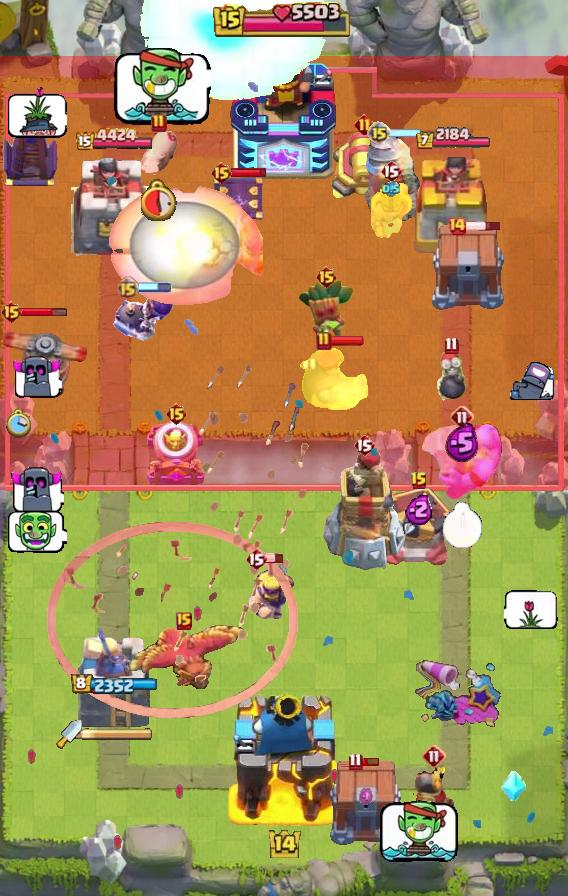archer-queen: (418, 422, 506, 502)
arrows: (247, 563, 296, 620)
bar: (75, 623, 153, 731)
bomb: (429, 225, 507, 311), (327, 761, 405, 847)
clock: (213, 2, 355, 40)
dark-prince: (0, 313, 88, 397)
electro-spirit: (445, 423, 479, 463), (406, 493, 435, 525), (382, 181, 400, 197), (359, 787, 373, 805)
elixir: (441, 503, 482, 550), (141, 179, 178, 221), (5, 408, 31, 439)
emote: (16, 306, 69, 317), (466, 220, 503, 232), (329, 335, 365, 347), (232, 166, 269, 177), (136, 283, 172, 294), (389, 129, 424, 140), (360, 756, 380, 767), (264, 553, 283, 564)
firecracker: (413, 767, 456, 833)
giant: (138, 129, 180, 175)
goblin-ball: (113, 290, 175, 342)
goblin-barrel: (297, 278, 355, 344)
goblin-cage: (144, 419, 208, 489)
goblin-giant: (369, 183, 413, 241)
ice-golem: (434, 349, 468, 405)
ice-spirit-evolution-symbol: (0, 96, 60, 188), (211, 173, 265, 223)
king-tower: (226, 688, 342, 826), (230, 41, 338, 181)
king-tower-bar: (82, 727, 154, 741)
lava-pup: (375, 487, 463, 569)
magic-archer: (364, 130, 424, 222)
mega-knight: (134, 0, 331, 104)
mother-witch: (119, 623, 249, 697)
pad_2: (500, 771, 526, 803)
phoenix-small: (296, 346, 370, 410)
queen-tower: (410, 154, 496, 256), (71, 156, 157, 256)
royal-recruit: (328, 130, 400, 204)
selected: (74, 127, 154, 153), (70, 674, 157, 696), (416, 127, 493, 151)
skeleton: (113, 48, 211, 126), (378, 800, 458, 864), (5, 85, 66, 139), (5, 509, 66, 555), (8, 465, 63, 515), (10, 354, 61, 399), (504, 591, 558, 630), (508, 362, 554, 402)
skeleton-barrel: (46, 361, 310, 720)
text: (367, 121, 391, 145), (450, 405, 474, 429), (422, 744, 446, 768), (210, 161, 233, 185), (315, 265, 338, 289), (1, 300, 24, 324), (164, 402, 187, 426), (116, 277, 139, 300), (380, 159, 402, 183), (353, 433, 375, 457), (245, 547, 267, 571), (353, 113, 375, 135), (447, 216, 467, 236), (410, 471, 428, 491), (151, 113, 167, 133), (316, 331, 332, 351), (176, 612, 192, 630), (445, 337, 460, 356), (349, 752, 364, 771)
valkyrie: (107, 186, 263, 306)
zappy: (321, 450, 406, 574)
